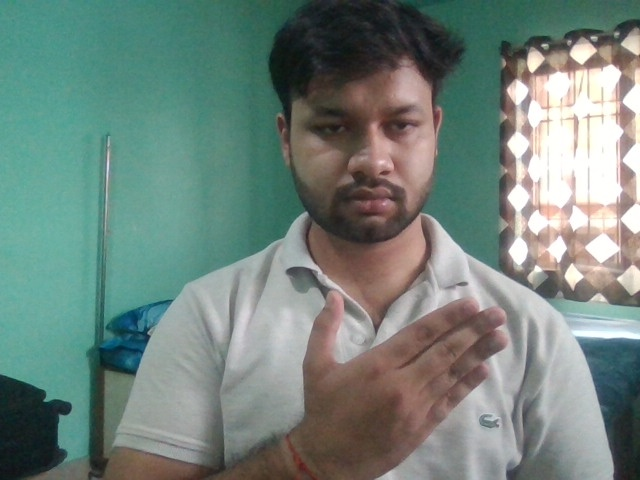Please: (289, 286, 513, 480)
